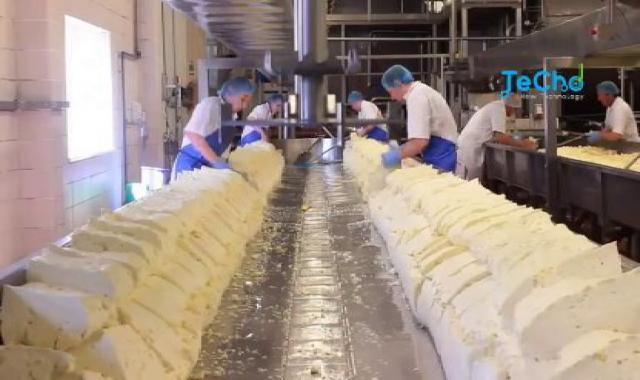hairnet: (208, 75, 257, 104), (375, 67, 425, 94), (595, 83, 622, 103), (347, 88, 368, 107), (270, 95, 293, 108)
